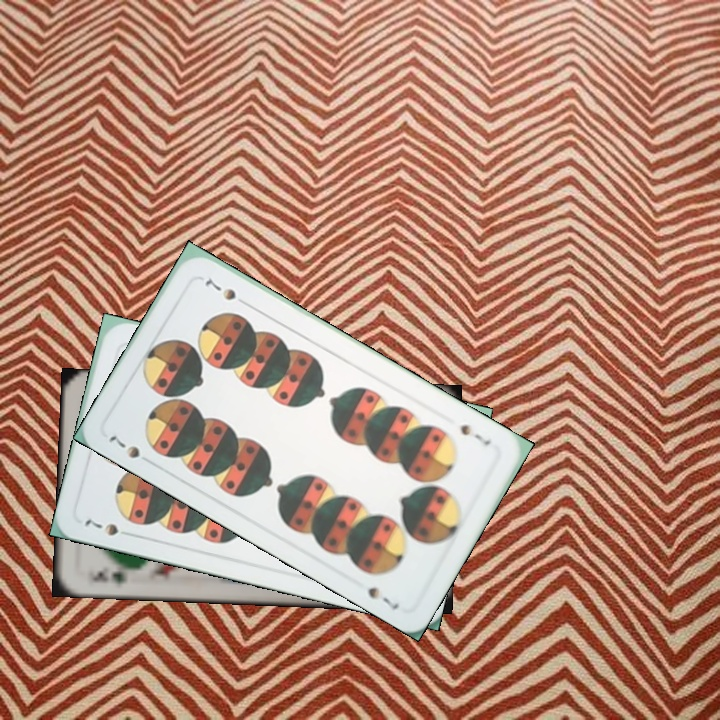GK: (84, 563, 131, 588)
S7: (80, 512, 136, 539), (104, 431, 143, 461), (456, 420, 494, 448)
